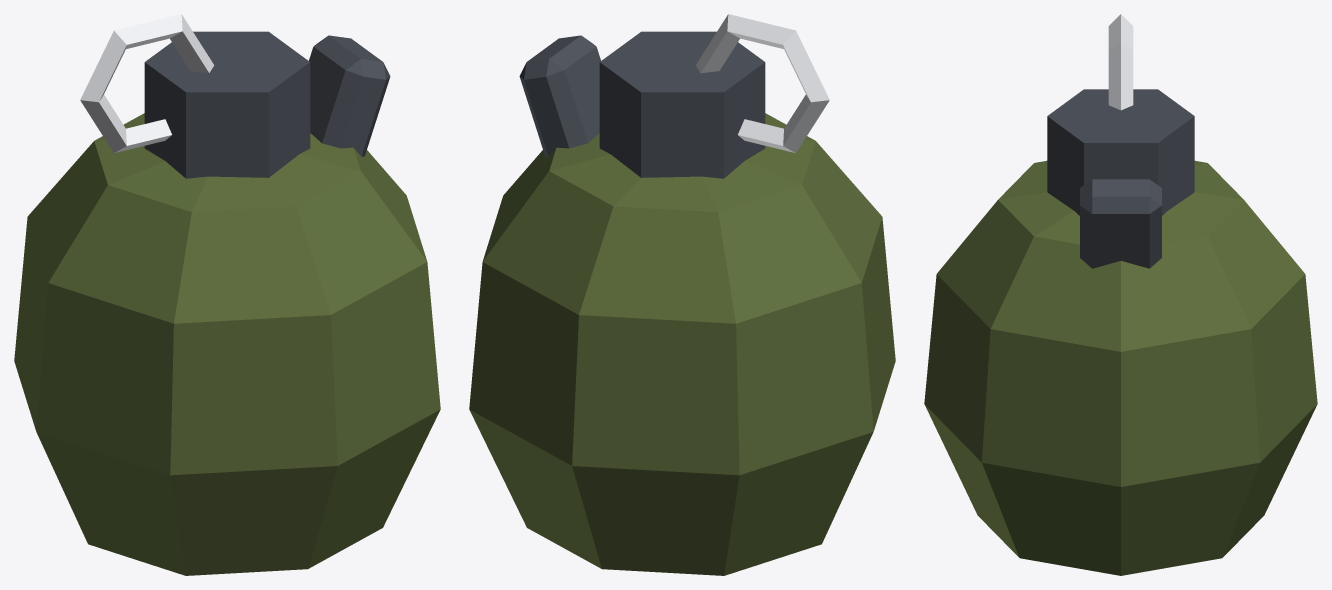
Rendered from Grenade.fbx.
3 renders of one model, left to right at view 1: azimuth 30°, elevation 25°; view 2: azimuth 150°, elevation 25°; view 3: azimuth 270°, elevation 25°, orthographic. The views are drawn at different scales.
Visible parts, largest first — view 1: Grenade; view 2: Grenade; view 3: Grenade.
Part boxes in pixels (left/top/right/bottom): Grenade: left=14, top=14, right=440, bottom=575; Grenade: left=469, top=14, right=895, bottom=575; Grenade: left=924, top=14, right=1317, bottom=575.
Bounding box in the file's own units: 0.96 × 1.27 × 0.96.
Materials: 1 (1 with a texture image).
